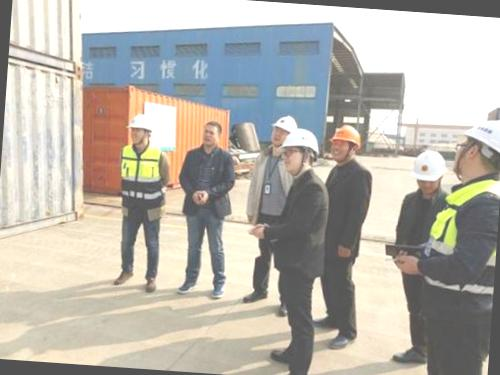no_helmet: (194, 115, 225, 150)
